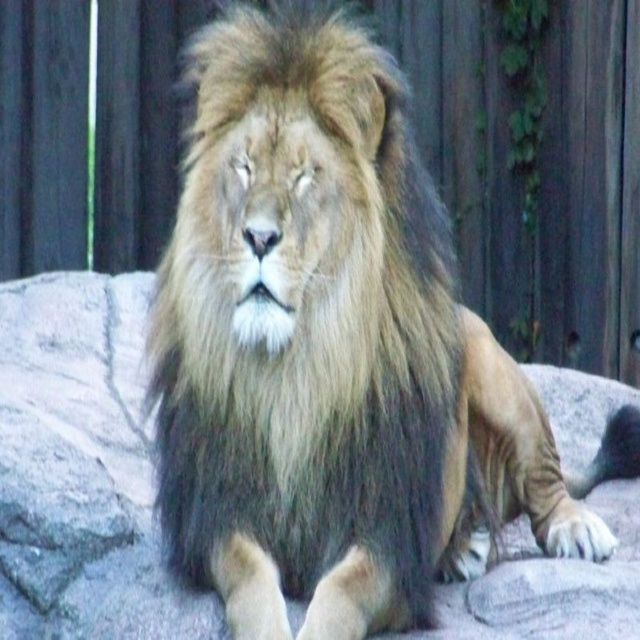Lion: (142, 0, 614, 639)
